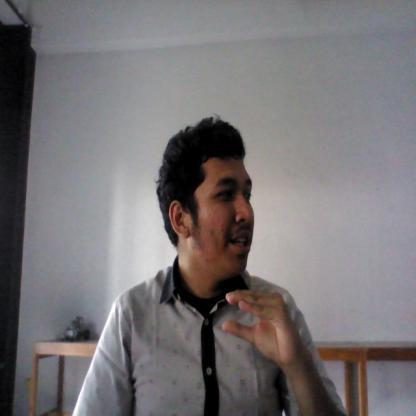Pagi: (216, 282, 310, 370)
